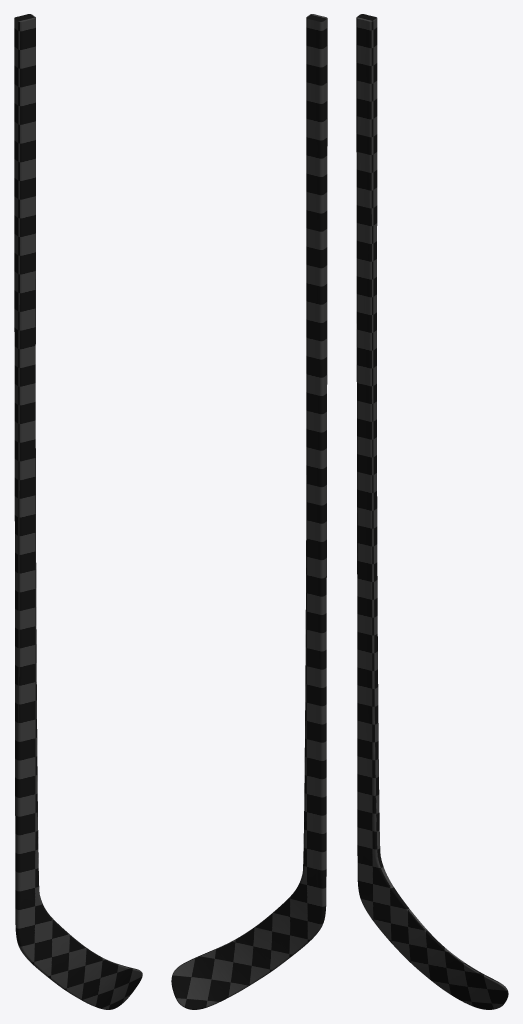
File: P8TM-SBT.glb
3 views of the same model, side by side, from view 1: azimuth 30°, elevation 25°; view 2: azimuth 150°, elevation 25°; view 3: azimuth 330°, elevation 25° (orthographic). The views are drawn at different scales.
Visible parts, largest first — view 1: geometry_0; view 2: geometry_0; view 3: geometry_0.
Part boxes in pixels (x1,y1,x2,y2): geometry_0: (14,14,142,1009); geometry_0: (171,14,327,1009); geometry_0: (356,14,508,1009).
Size of the model in its own units: 237 by 1650 by 68.61.
1 material, 1 textured.
